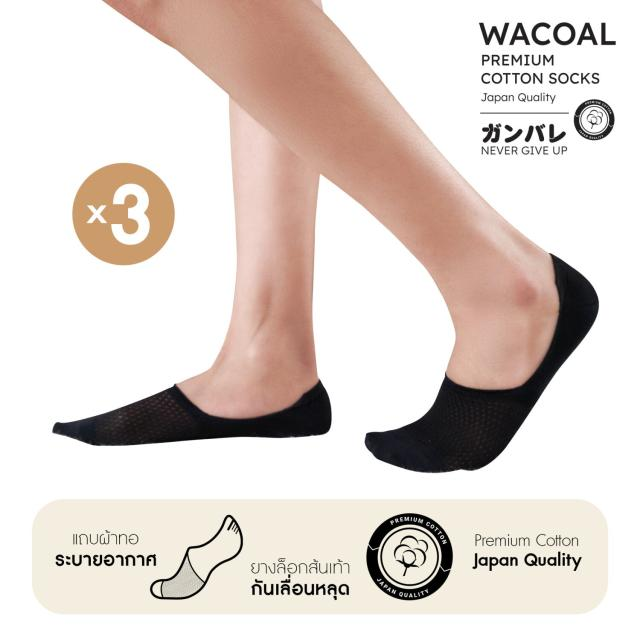sock: (364, 252, 599, 472), (51, 378, 332, 446)
